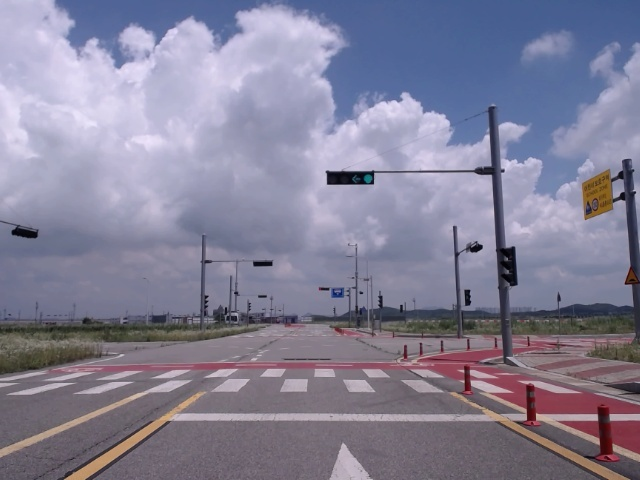all_green_4: (326, 169, 374, 186)
